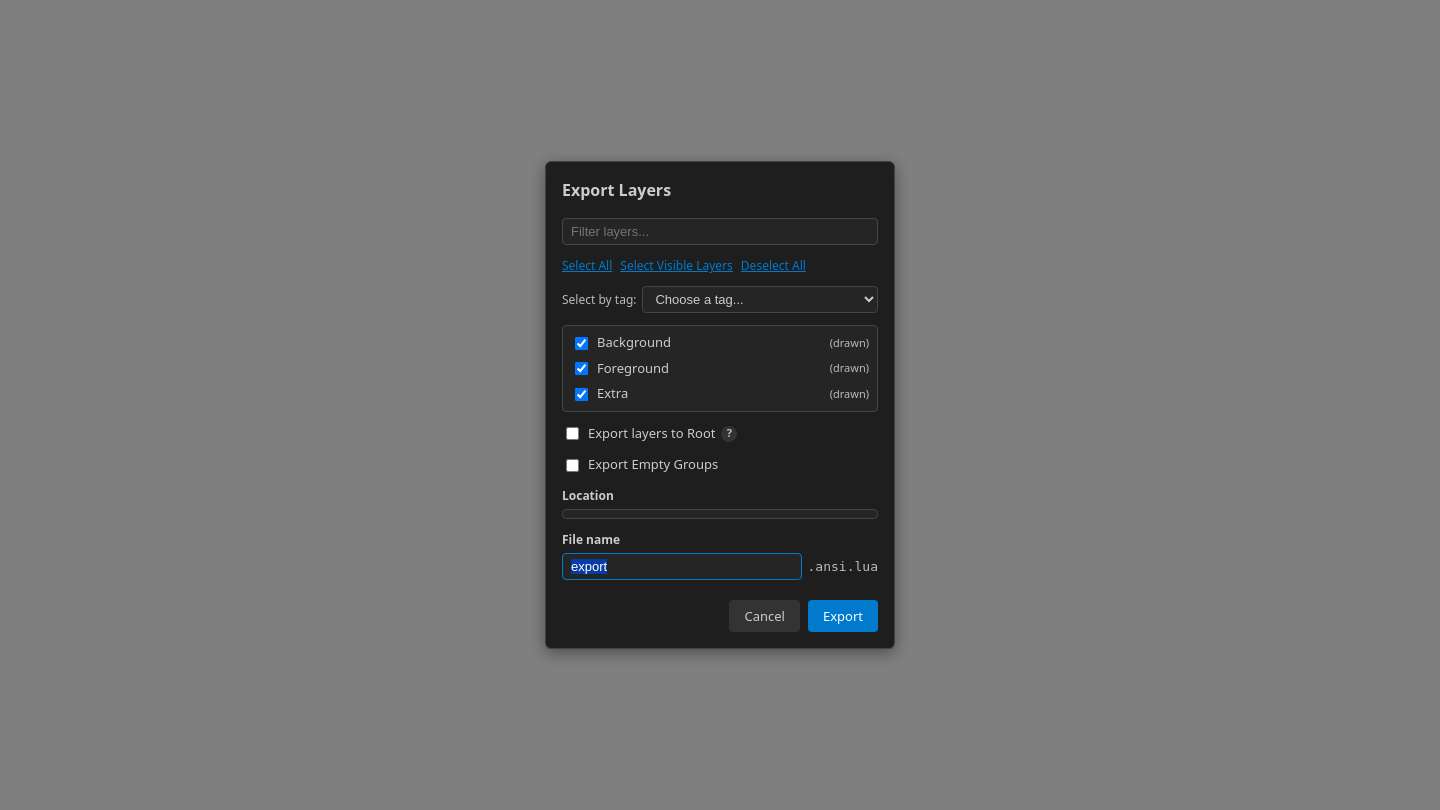
Test case: ExportLayersDialog — tags, groups, dedup › Select by tag › adding a tag preserves existing manual selection
The image size is (1440, 810).
Click the button "Deselect All".
click(773, 266)  # box [741,257,806,274]
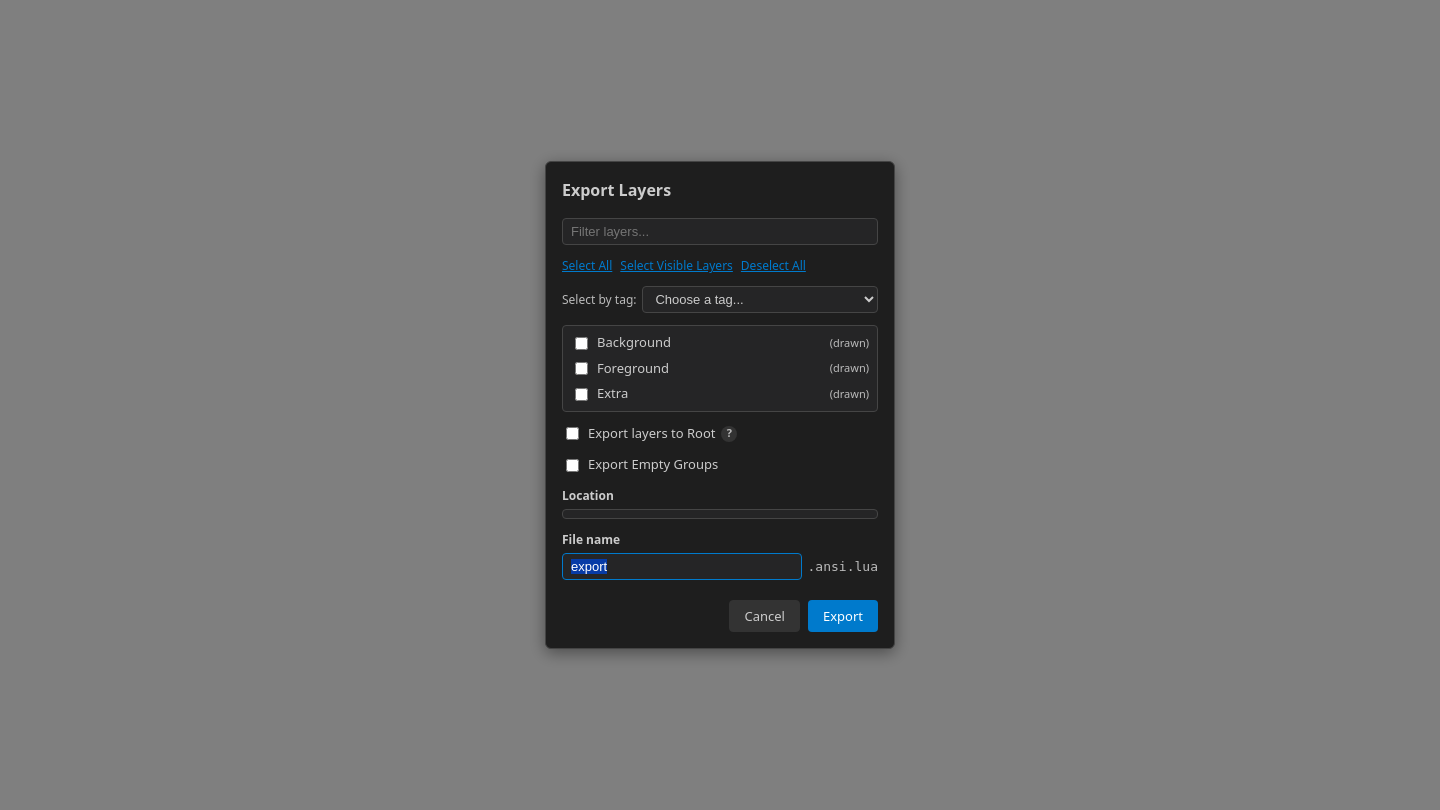
Click the checkbox with test id "export-check-ex-1".
click(582, 394)  # box [575,388,588,400]
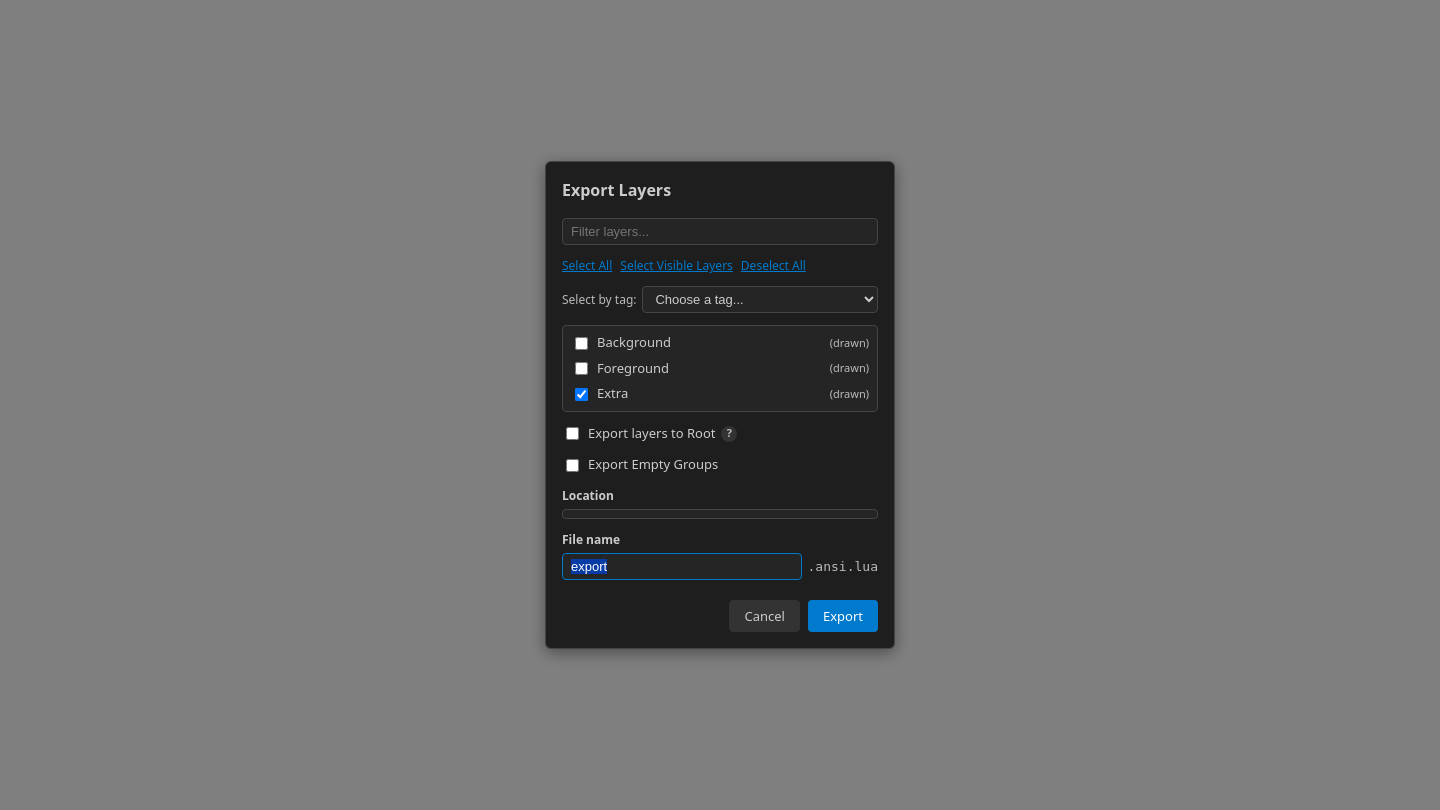
# Now add sky tag — extra should still be selected
Select "sky" in the dropdown with test id "export-tag-select" at (760, 300), box [642,286,878,313]
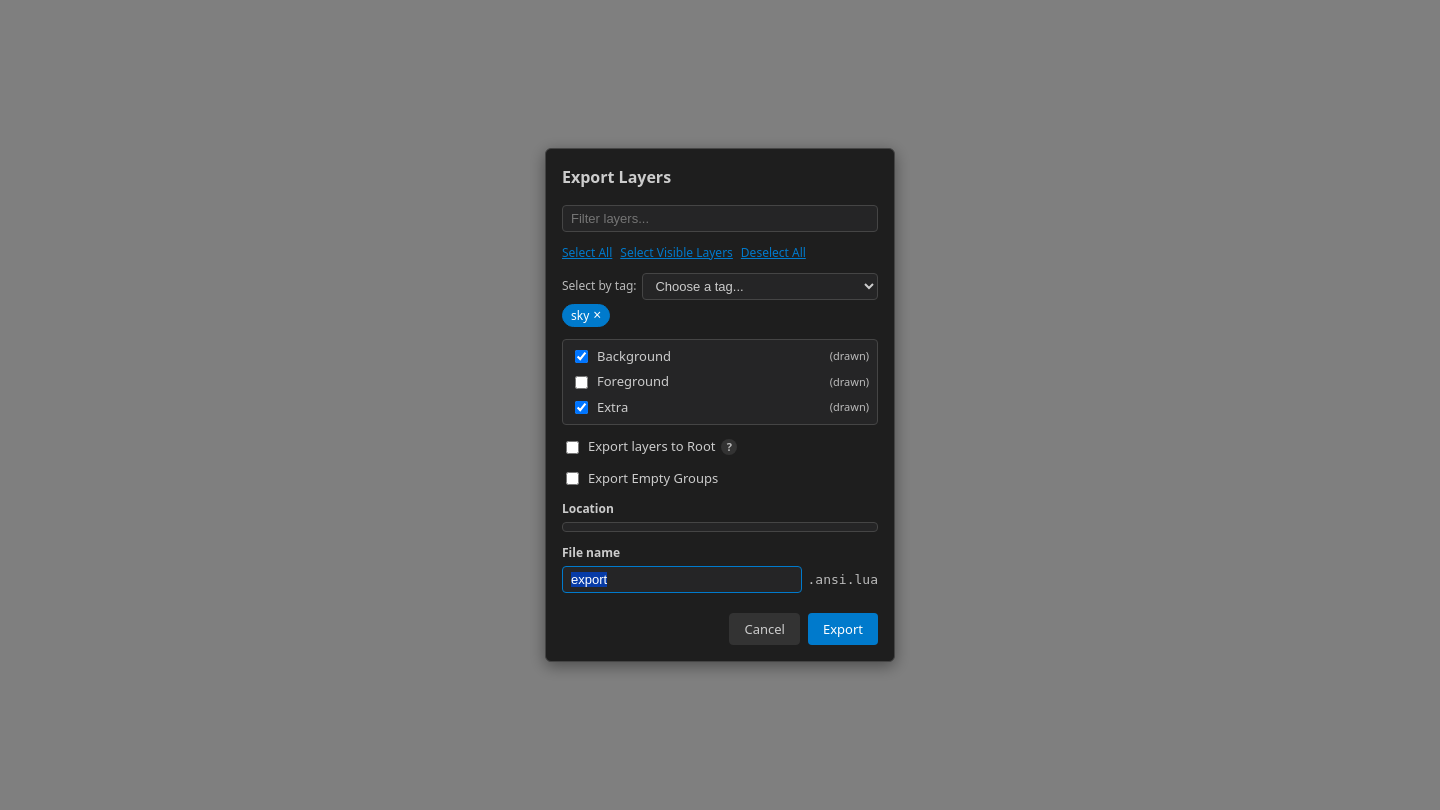
Result: the checkbox with test id "export-check-ex-1" is checked at [575,401,588,414]
Result: the checkbox with test id "export-check-fg-1" is not checked at [575,376,588,388]
Result: the checkbox with test id "export-check-bg-1" is checked at [575,350,588,363]
